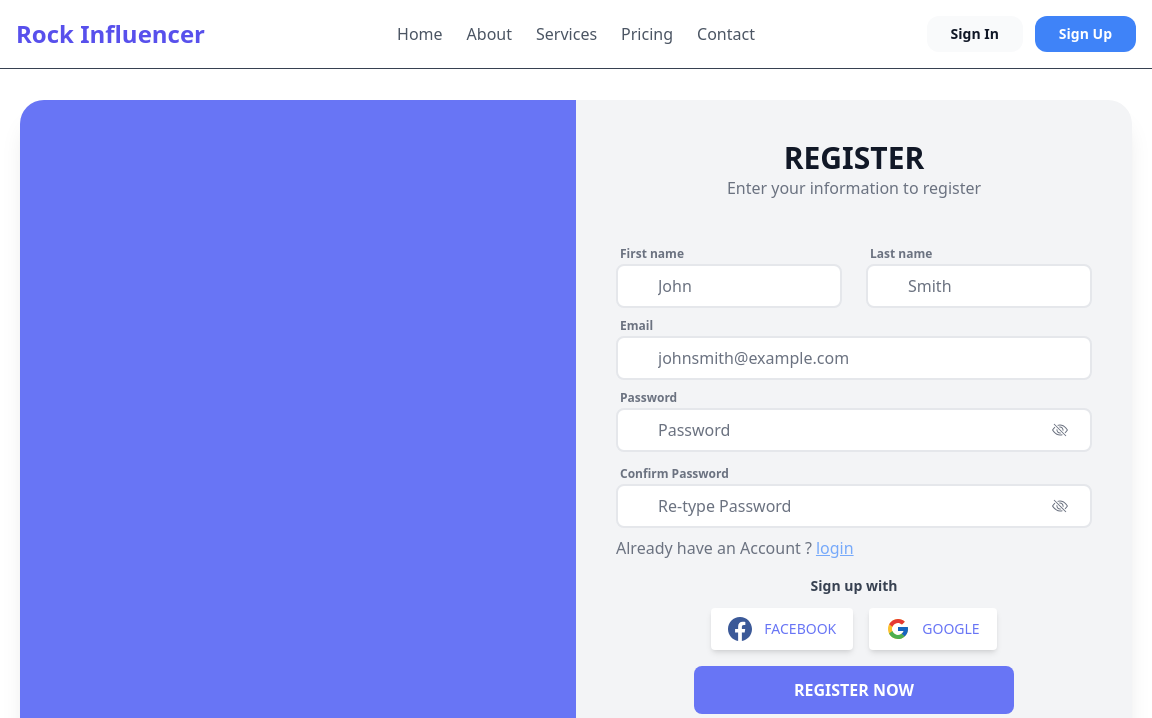
Test case: registerForm › should display an errors message for an invalid email format
The image size is (1152, 718).
Type "asdghjkl" into the password field named "password" at (854,430), box [616, 408, 1092, 452]
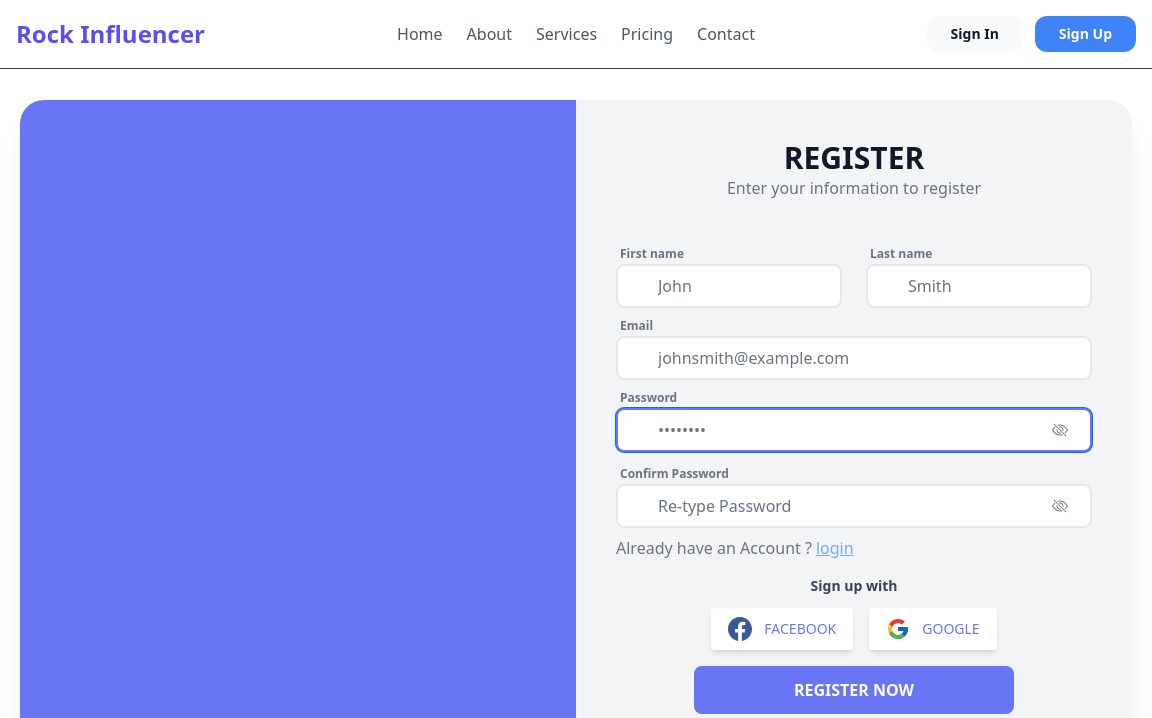
Click the submit button at (854,690), box [694, 666, 1014, 714]
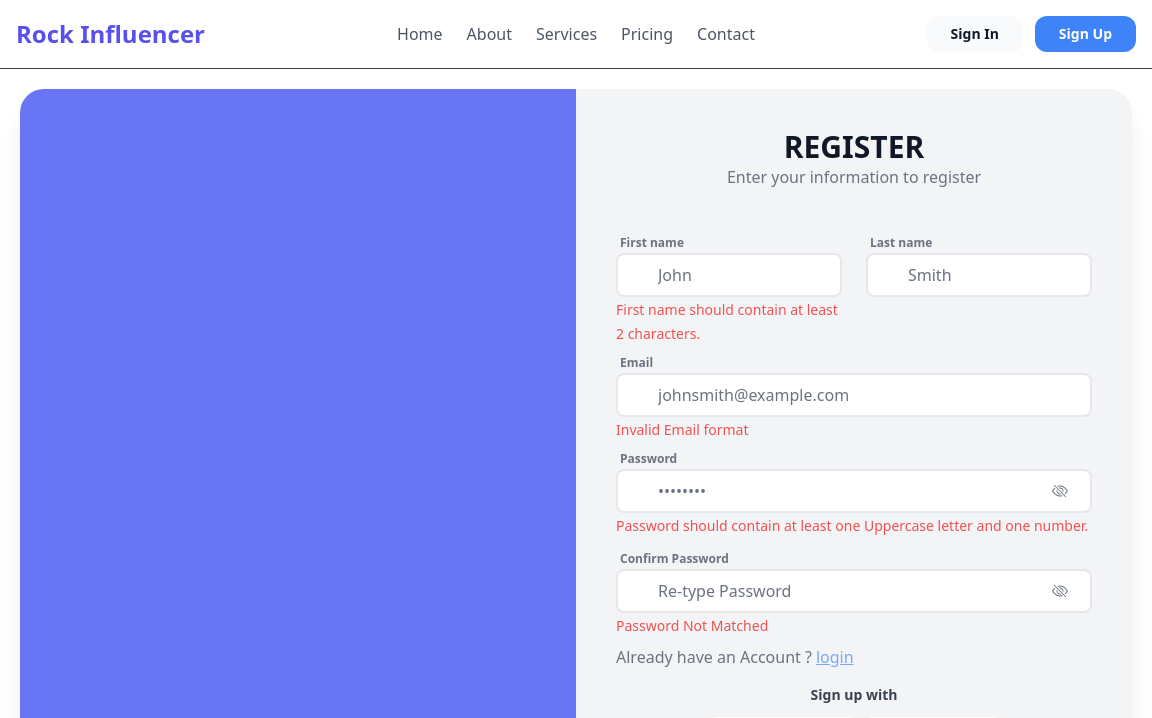
Result: the text "First name should contain at least 2 characters." is shown at [616, 300, 838, 343]
Result: the text "Password should contain at least one Uppercase letter and one number." is shown at [616, 516, 1088, 535]
